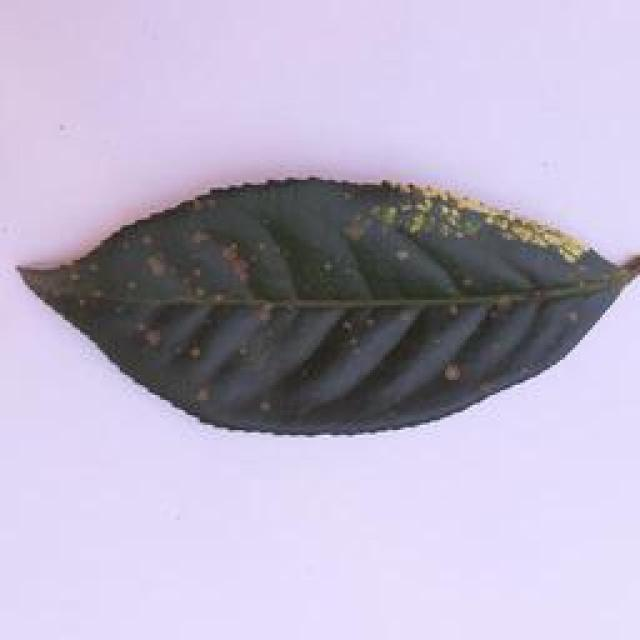Algal Leaf Spot: (19, 175, 636, 435)
